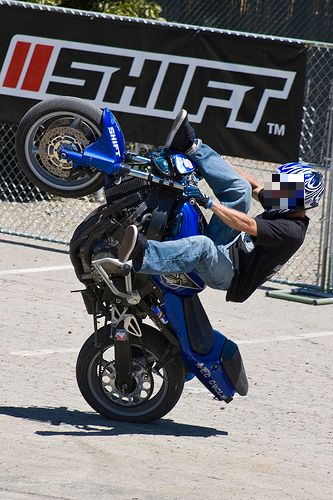bike: (12, 96, 251, 425)
